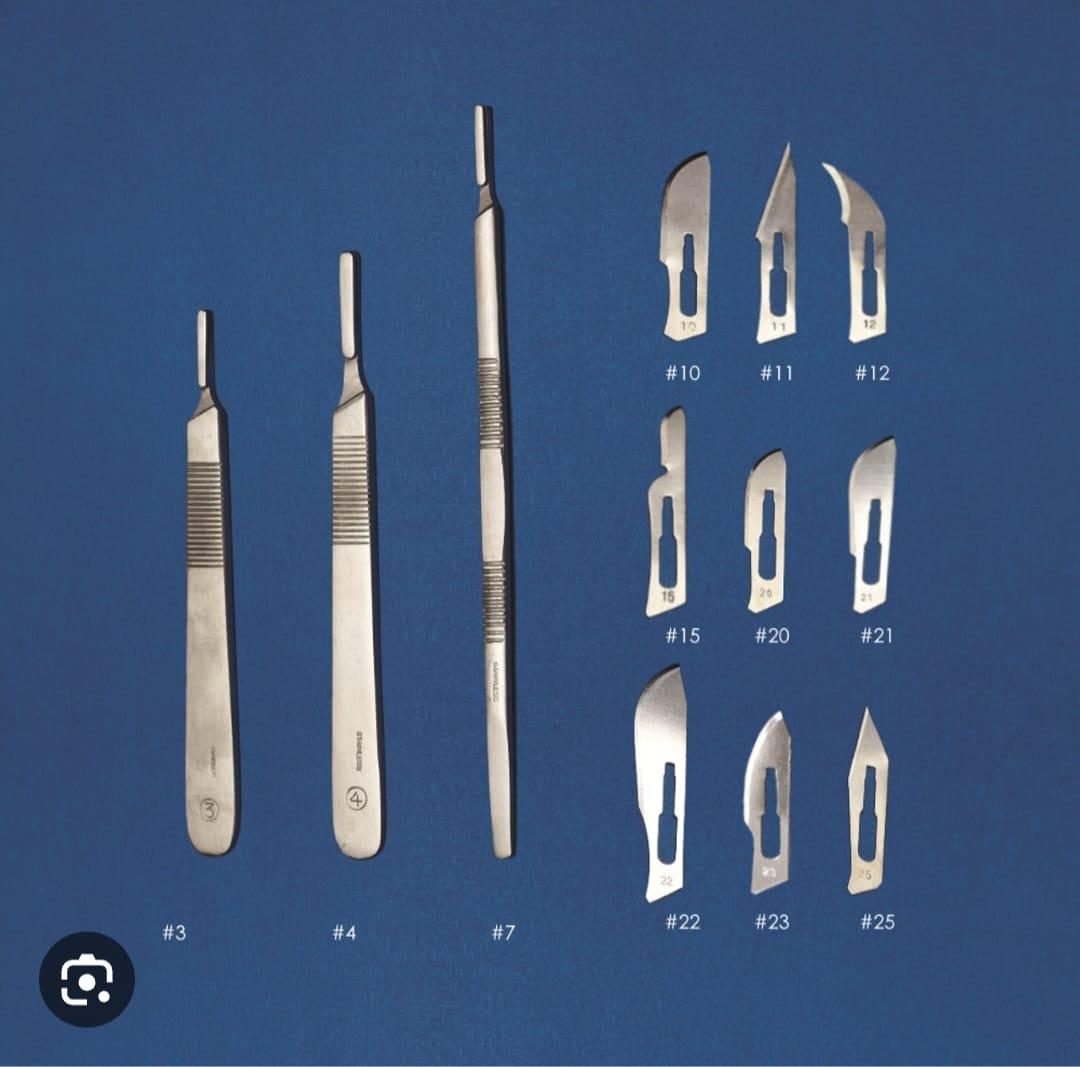Knife Blade: (607, 648, 708, 907), (833, 420, 938, 617), (620, 400, 710, 625), (637, 140, 732, 348), (722, 697, 815, 907), (825, 147, 915, 345), (718, 435, 813, 622), (830, 695, 910, 905), (743, 132, 820, 348)
Knife Handle: (443, 78, 555, 867), (150, 302, 262, 872), (303, 242, 398, 877)
